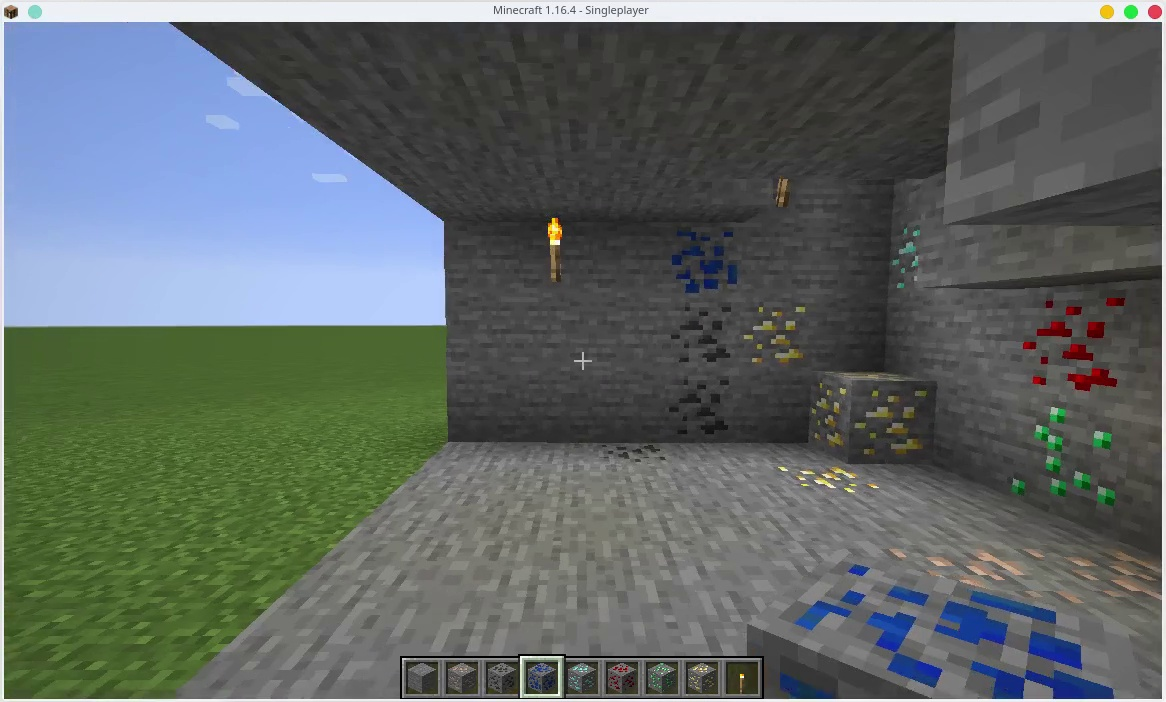gold: (804, 375, 937, 454), (734, 302, 809, 367), (781, 461, 887, 497), (684, 663, 714, 690)
